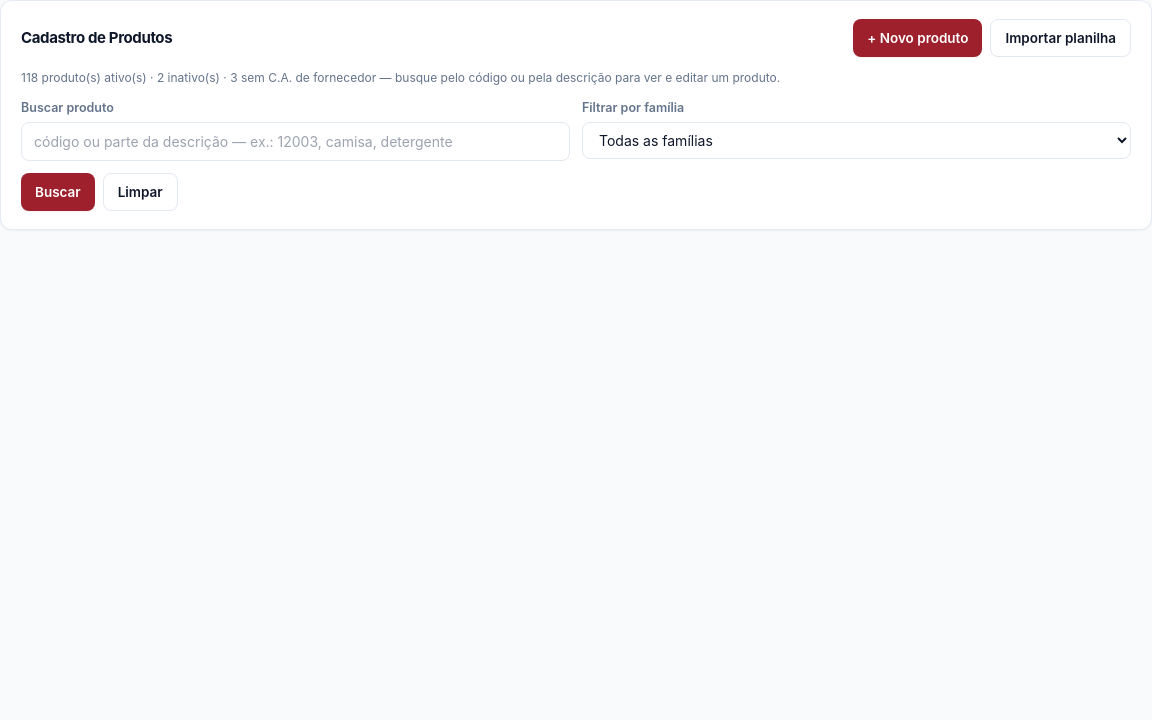
Test: <Produtos /> › não busca sem critério e avisa o que fazer
Expected: the field labelled "Buscar produto" is shown, 21,122 -> 570,161
Click the button "Buscar" at (58, 192), box 21,173 -> 95,211
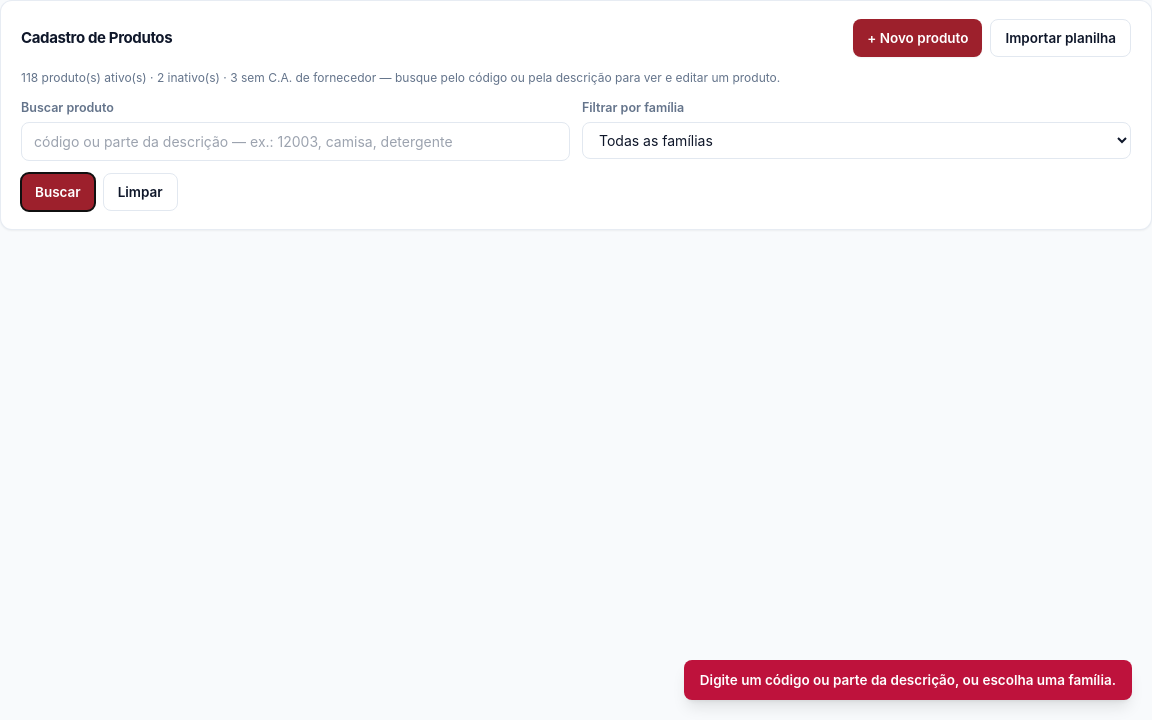
Now the message with test id "toast" shows "Digite um código ou parte da descrição", box 700,672 -> 1116,688
